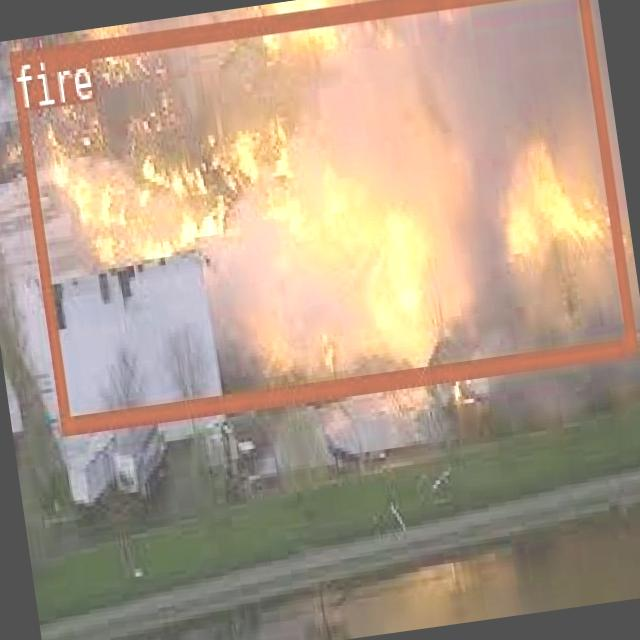fire: (8, 0, 636, 431)
